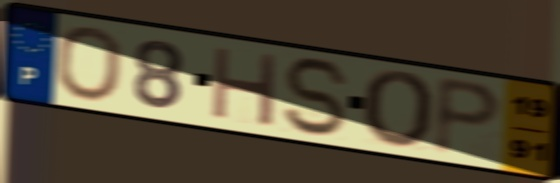8: (132, 37, 186, 110)
H: (208, 43, 281, 130)
O: (359, 68, 439, 153), (53, 25, 126, 105)
P: (429, 73, 506, 160)
S: (280, 55, 354, 140)
